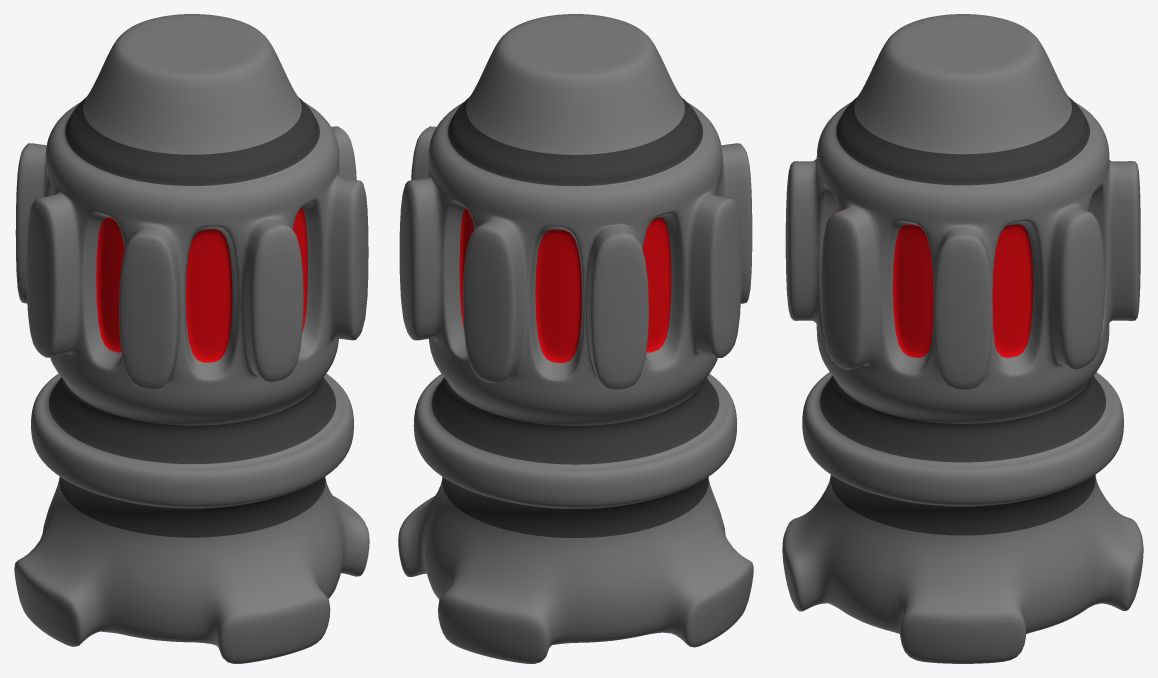
Rendered from LaserContainer.fbx.
3 renders of one model, left to right at view 1: azimuth 30°, elevation 25°; view 2: azimuth 150°, elevation 25°; view 3: azimuth 270°, elevation 25°, orthographic.
Visible parts, largest first — view 1: LaserContainer; view 2: LaserContainer; view 3: LaserContainer.
Part boxes in pixels (left/top/right/bottom): LaserContainer: left=14, top=14, right=369, bottom=663; LaserContainer: left=398, top=14, right=753, bottom=663; LaserContainer: left=782, top=14, right=1143, bottom=663.
Size of the model in its own units: 149 by 249 by 149.
